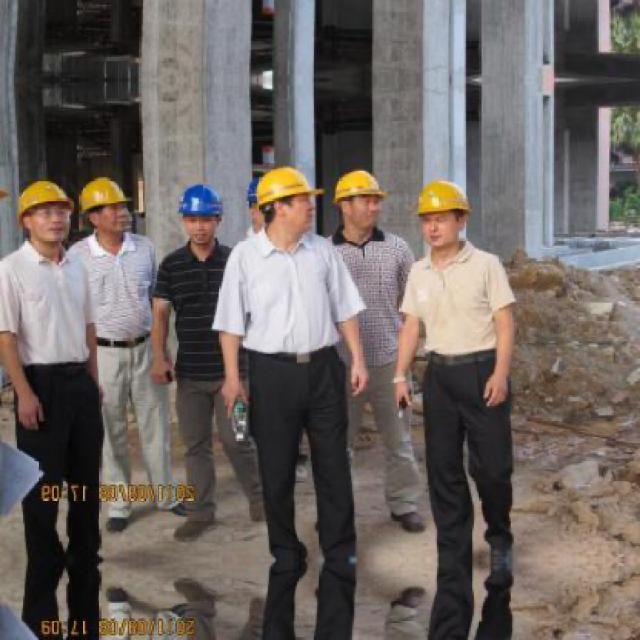helmet: (255, 166, 323, 245), (415, 175, 477, 257), (14, 171, 77, 251), (331, 167, 386, 236), (77, 177, 129, 243), (179, 178, 223, 252)
